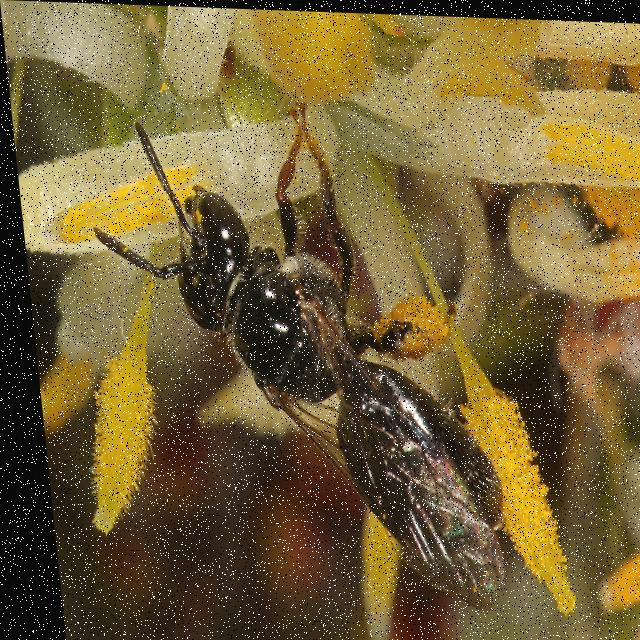Braunsapis: (81, 119, 562, 637)
